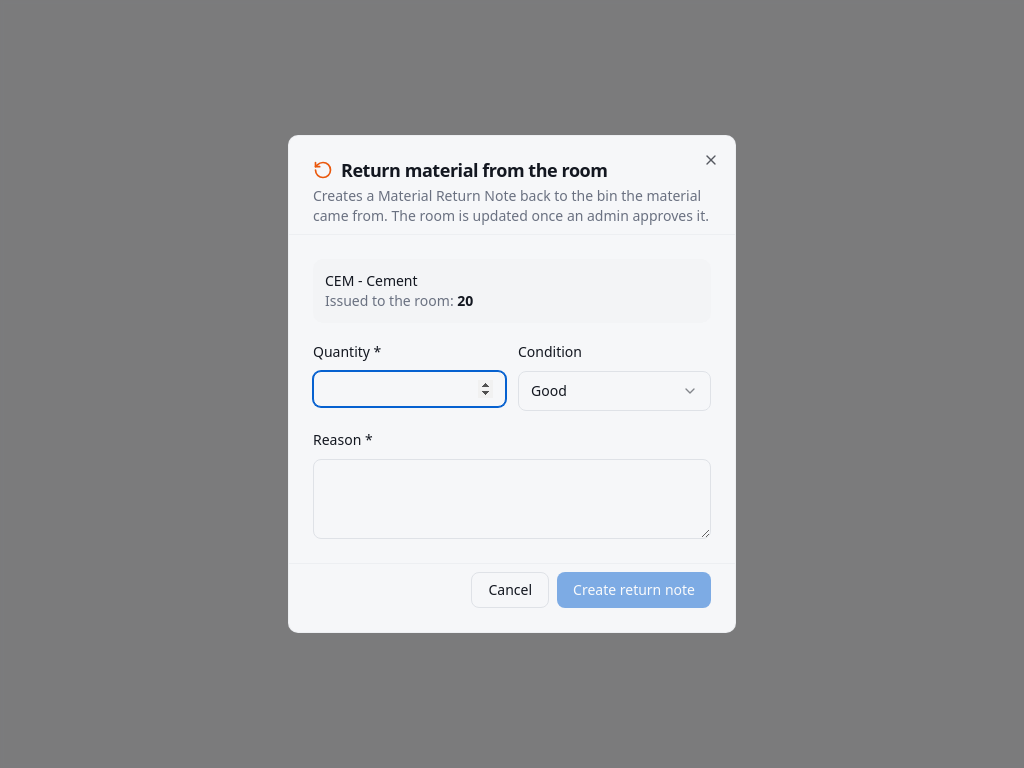
Test: Room materials go through issue and return notes › returns need a reason and can't exceed what the room holds
Later steps or results of the test are not shown.
Type "25" into the number field labelled "Quantity *".
click(410, 389); type("25")  # box [313,371,506,407]
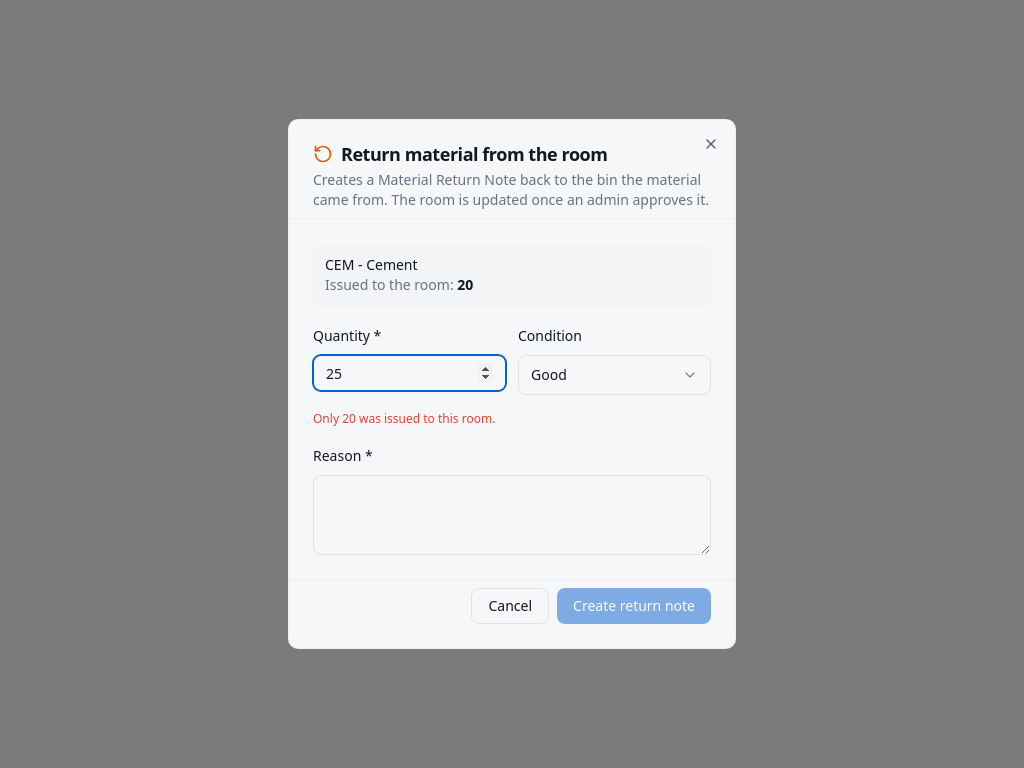
Result: the text "Only 20 was issued to this room." is shown at [313,410,495,427]
